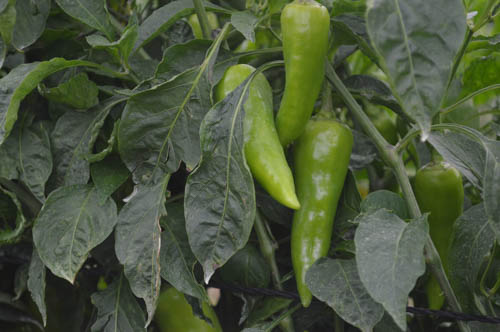ChiliPepper: (221, 66, 300, 213), (292, 121, 351, 310), (275, 3, 330, 150), (415, 163, 463, 315), (148, 284, 218, 332)
